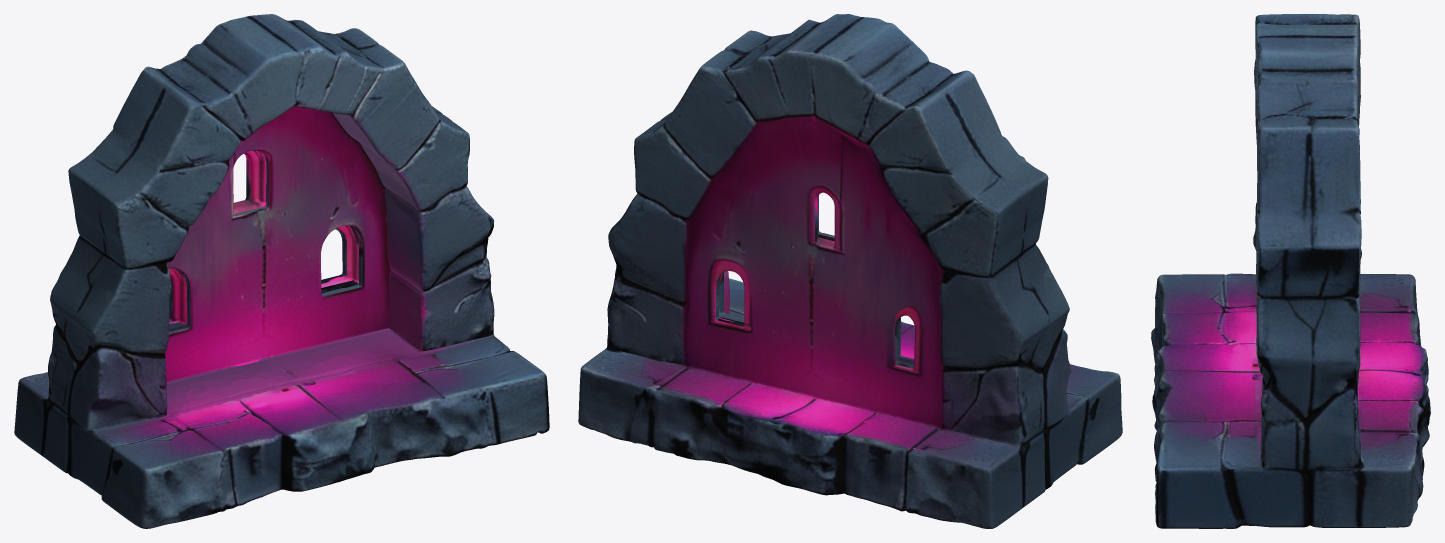
The model's file is island-shelf-generated-2026-04-19T06-25-20-061Z.glb.
The picture shows the model from 3 angles, left to right: view 1: azimuth 30°, elevation 25°; view 2: azimuth 150°, elevation 25°; view 3: azimuth 270°, elevation 25°; orthographic projection. The views are drawn at different scales.
Parts seen in each view (by area): view 1: temp_mesh.ply; view 2: temp_mesh.ply; view 3: temp_mesh.ply.
Part boxes in pixels (bbox=[...]): temp_mesh.ply: bbox=[14, 14, 549, 528]; temp_mesh.ply: bbox=[578, 14, 1122, 528]; temp_mesh.ply: bbox=[1151, 14, 1430, 528].
Size of the model in its own units: 1.96 by 1.81 by 1.16.
1 material, 1 textured.
